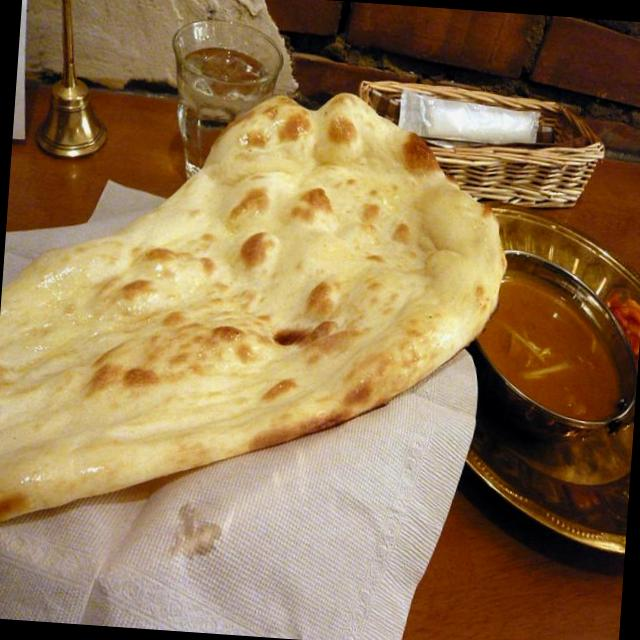Beef Curry: (464, 241, 640, 433)
